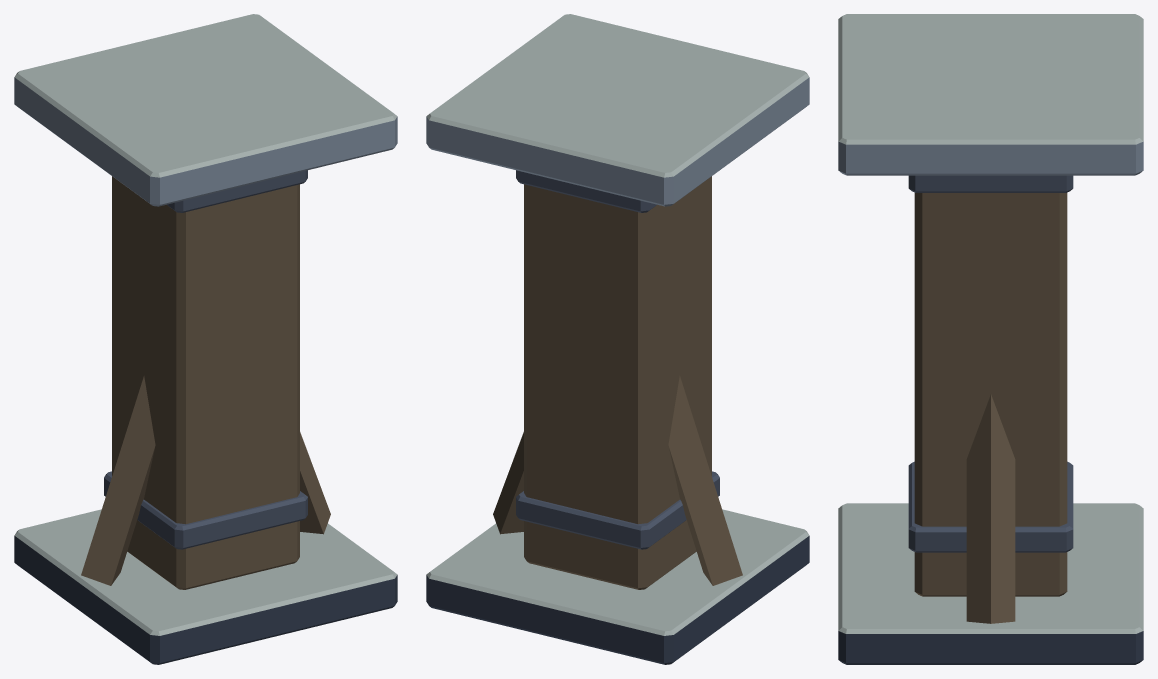
The model's file is pillar-large.glb.
3 renders of one model, left to right at view 1: azimuth 30°, elevation 25°; view 2: azimuth 150°, elevation 25°; view 3: azimuth 270°, elevation 25°, orthographic. The views are drawn at different scales.
Parts seen in each view (by area): view 1: pillar-large__body; view 2: pillar-large__body; view 3: pillar-large__body.
Part boxes in pixels (x1,y1,x2,y2): pillar-large__body: [14, 14, 397, 664]; pillar-large__body: [426, 14, 809, 664]; pillar-large__body: [838, 14, 1143, 664].
Bounding box in the file's own units: 1.01 × 1.9 × 1.
